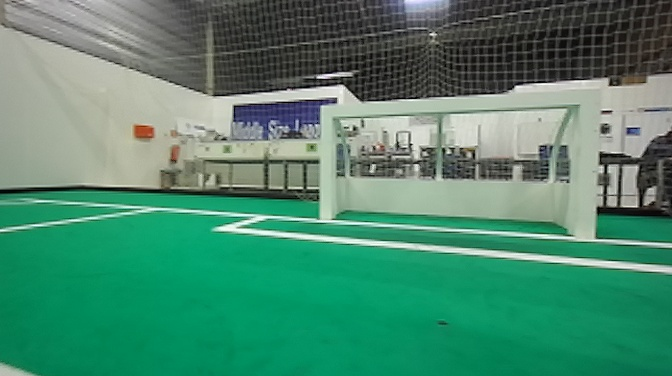goalpost: (565, 77, 614, 253), (311, 99, 340, 224)
